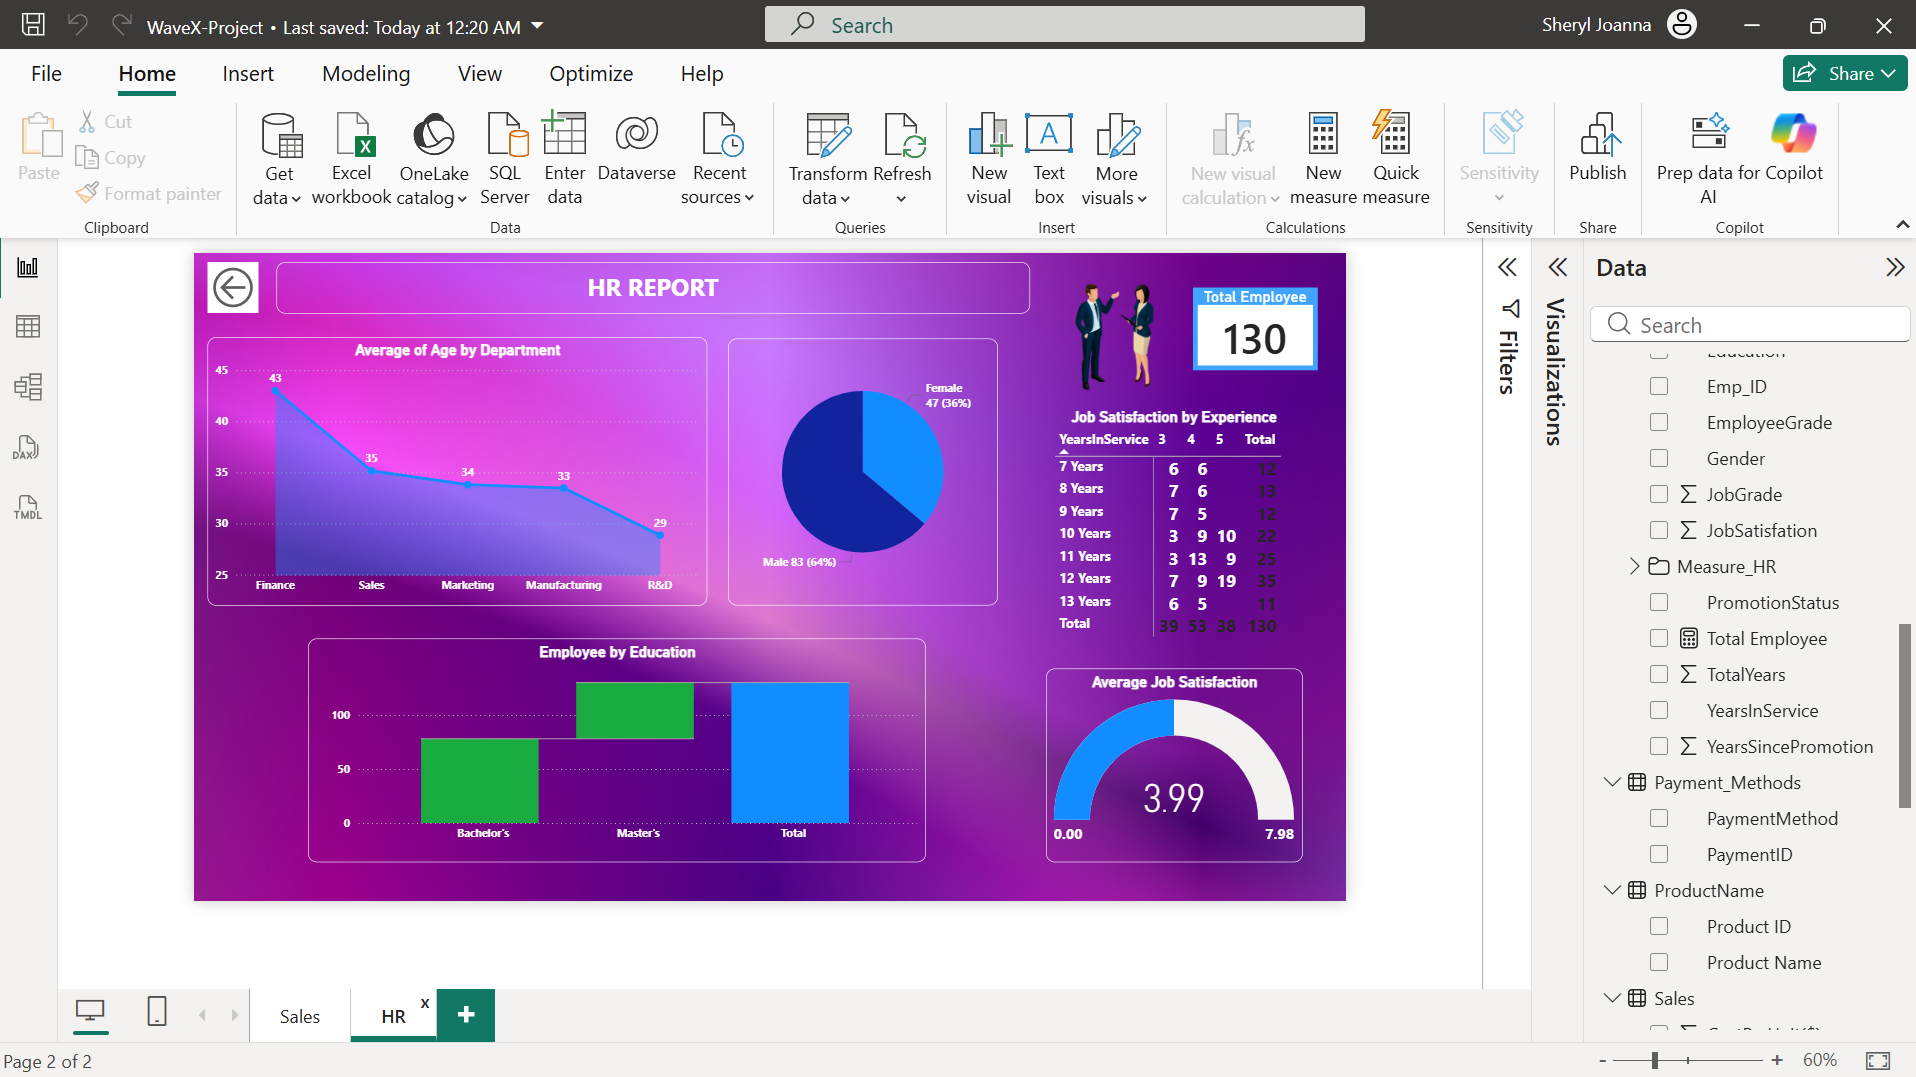

The dashboard page shown, as its layout file describes it:
{"tool":"powerbi","page":{"name":"HR","canvas":[1280,720],"ordinal":1},"visuals":[{"type":"textbox","box":[92,10,837,57],"z":0},{"type":"actionButton","box":[15,10,56.7,56.7],"z":1000},{"type":"areaChart","fields":{"Category":["HR.Department"],"Y":["Avg(HR.Age)"]},"box":[15,93.3,555,298.3],"z":2000},{"type":"pieChart","title":"Employee by Gender","fields":{"Series":["HR.Gender"],"Y":["CountNonNull(HR.Emp_ID)"]},"box":[593.3,95,300,296.7],"z":3000},{"type":"image","box":[961.7,15,128.3,156.7],"z":4000},{"type":"cardVisual","title":"Total Employee","fields":{"Data":["HR.Total Employee"]},"box":[1110,38.3,138.3,91.7],"z":5000},{"type":"pivotTable","title":"Job Satisfaction by Experience","fields":{"Rows":["HR.YearsInService"],"Values":["HR.Total Employee"],"Columns":["HR.JobSatisfation"]},"box":[951.7,171.7,275,275],"z":6000},{"type":"gauge","title":"Average Job Satisfaction","fields":{"Y":["Avg(HR.JobSatisfation)"]},"box":[946.7,461.7,285,215],"z":7000},{"type":"waterfallChart","title":"Employee by Education","fields":{"Category":["HR.Education"],"Y":["HR.Total Employee"]},"box":[126.7,428.3,686.7,248.3],"z":7001}]}

Visuals, with their boxes on the page's 1280x720 design canvas (x1, y1, x2, y2). These are canvas units, not pixel positions in the 1916x1077 screenshot, which may show the page scaled, cropped or inside an application window:
textbox: 92, 10, 929, 67
actionButton: 15, 10, 72, 67
areaChart - HR.Department x Avg(HR.Age): 15, 93, 570, 392
"Employee by Gender" pieChart: 593, 95, 893, 392
image: 962, 15, 1090, 172
"Total Employee" cardVisual: 1110, 38, 1248, 130
"Job Satisfaction by Experience" pivotTable: 952, 172, 1227, 447
"Average Job Satisfaction" gauge: 947, 462, 1232, 677
"Employee by Education" waterfallChart: 127, 428, 813, 677
